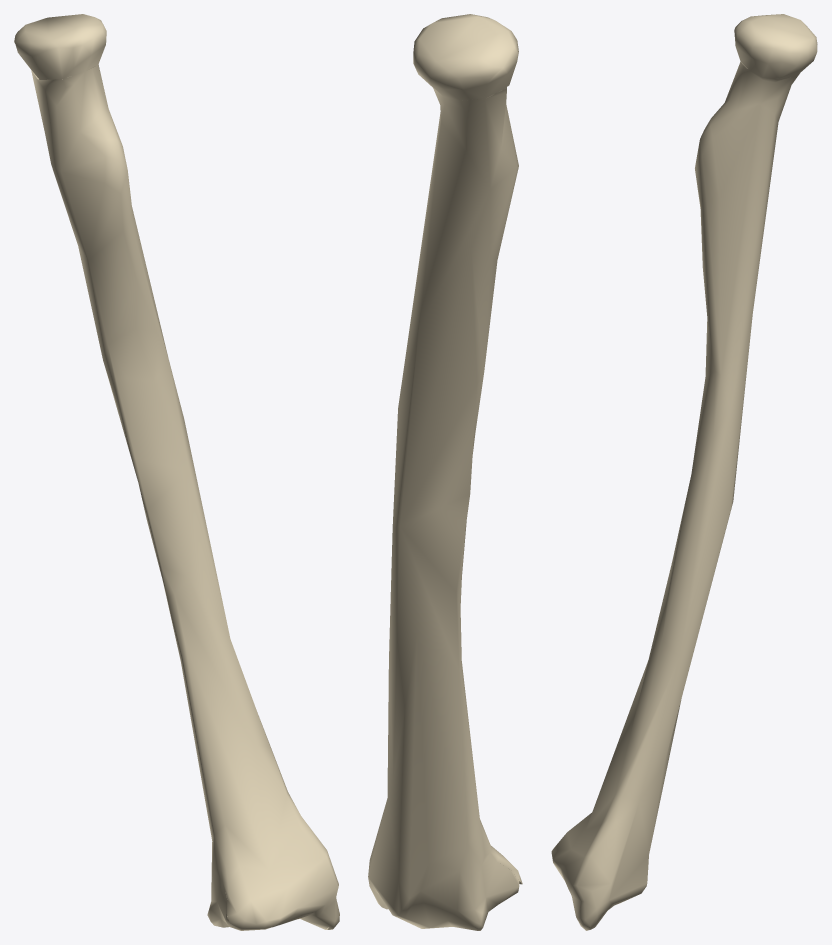
File: esqueleto-radius-l.glb
3 renders of one model, left to right at view 1: azimuth 30°, elevation 25°; view 2: azimuth 150°, elevation 25°; view 3: azimuth 270°, elevation 25°, orthographic. The views are drawn at different scales.
Visible parts, largest first — view 1: Radius.l; view 2: Radius.l; view 3: Radius.l.
Boxes of the visible parts, x1,y1,x2,y2 form: Radius.l: (14,14,339,930); Radius.l: (368,14,522,930); Radius.l: (551,14,817,930).
Size of the model in its own units: 0.0616 by 0.2368 by 0.0687.
